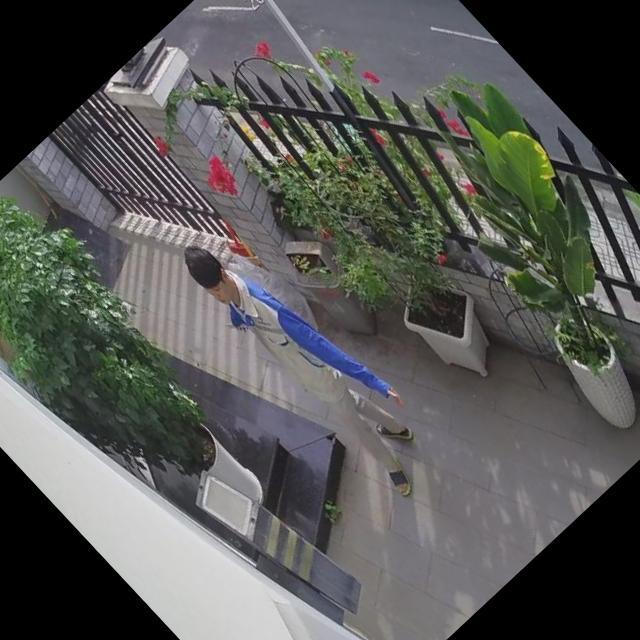person: (175, 210, 458, 506)
